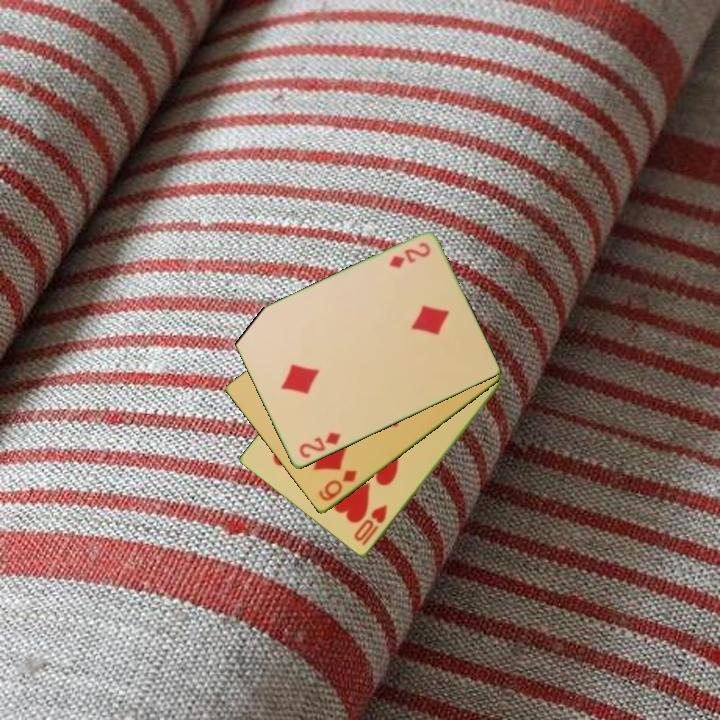10h: (350, 502, 391, 549)
2d: (295, 429, 343, 462), (385, 239, 433, 271)
6d: (315, 467, 360, 504)
